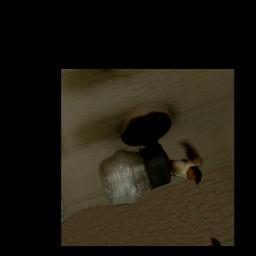Swallow: (162, 135, 209, 193)
